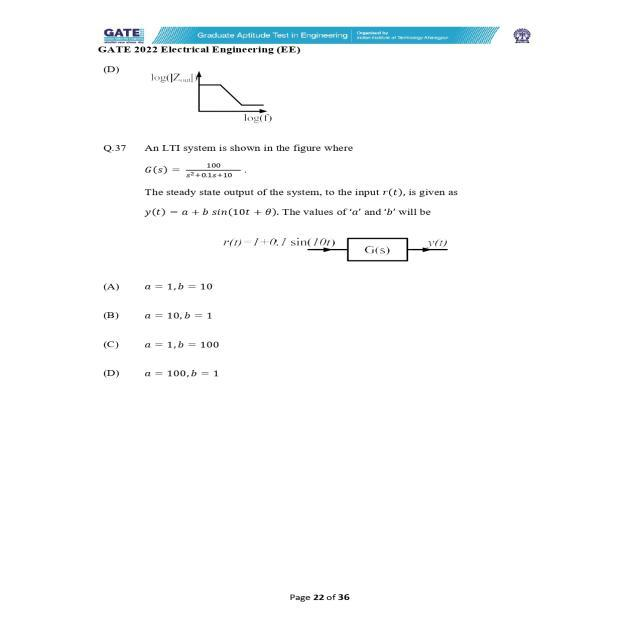Answer_Block: (73, 276, 500, 381), (75, 61, 498, 127)
Question_Answer_Block: (74, 142, 496, 382)
Question_Block: (70, 140, 496, 276)
Question_Paper_Area: (77, 39, 500, 383)
